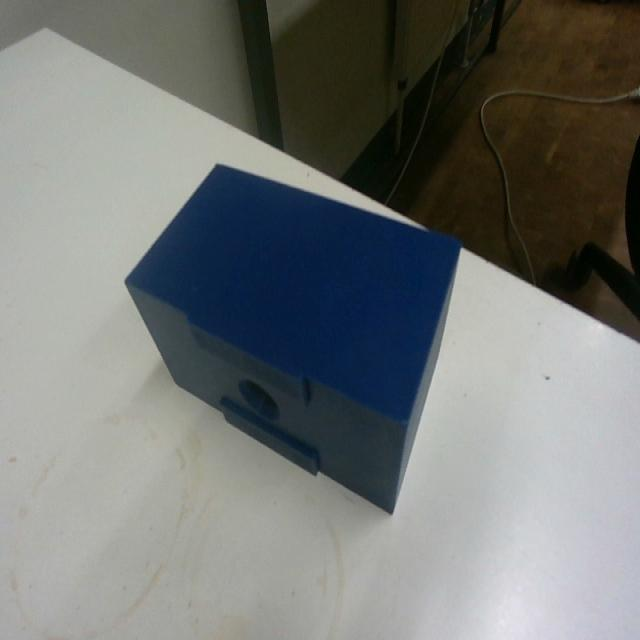Blue Cuboid: (122, 158, 463, 514)
